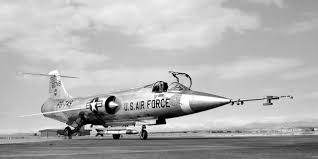fighter: (18, 67, 239, 140)
